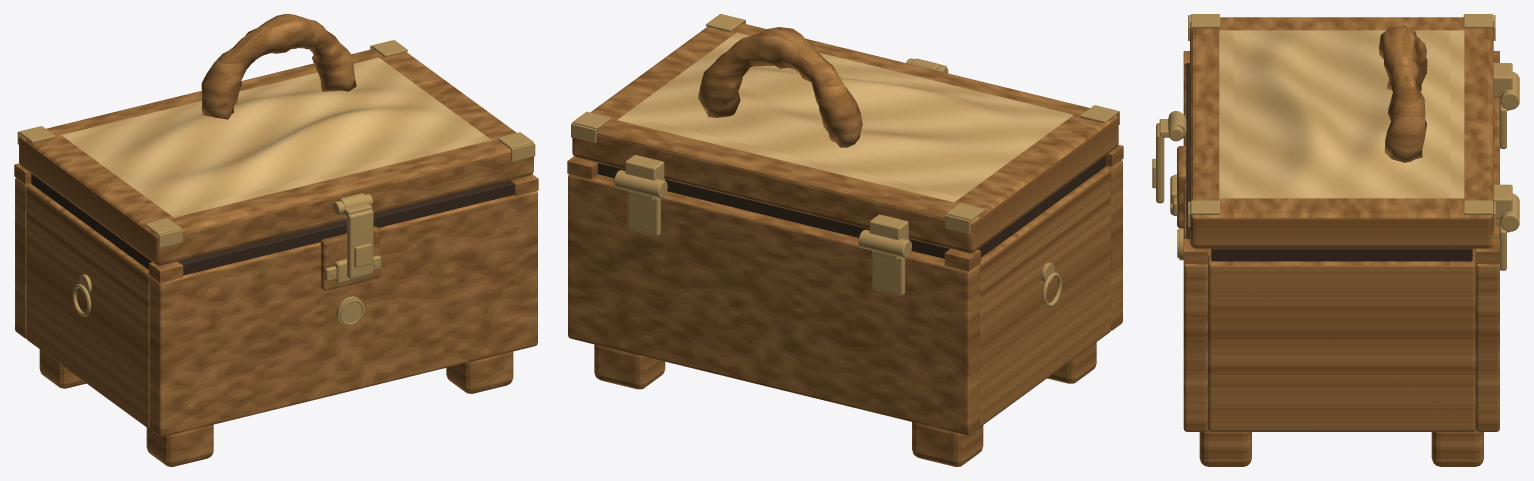
The model's file is libya.glb.
3 views of the same model, side by side, from view 1: azimuth 30°, elevation 25°; view 2: azimuth 150°, elevation 25°; view 3: azimuth 270°, elevation 25° (orthographic). The views are drawn at different scales.
Parts seen in each view (by area): view 1: Ochre / wall, Terrain / two dune crests, Lid / polished slab, Ochre / side, Terrain / Acacus open arch, Seam / long, Ochre / foot, Ochre / foot.002, Ochre / wall.001, Latch / lifting hasp, Ochre / clasp seat, Seam / side (+3 smaller); view 2: Ochre / wall.001, Terrain / two dune crests, Lid / polished slab, Ochre / side, Terrain / Acacus open arch, Seam / long.001, Ochre / foot.001, Ochre / foot.003, Ochre / wall, Seam / side, Hinge / fixed mount, Hinge / fixed mount.001 (+6 smaller); view 3: Ochre / side.001, Terrain / two dune crests, Lid / polished slab, Terrain / Acacus open arch, Ochre / wall.001, Ochre / wall, Seam / side.001, Ochre / foot.002, Ochre / foot.003, Ochre / clasp seat, Seam / long, Latch / lifting hasp (+10 smaller).
Part boxes in pixels (x1=…): Ochre / wall: x1=150, y1=191, x2=537, y2=437; Terrain / two dune crests: x1=61, y1=57, x2=491, y2=217; Lid / polished slab: x1=19, y1=49, x2=533, y2=265; Ochre / side: x1=26, y1=184, x2=150, y2=428; Terrain / Acacus open arch: x1=201, y1=14, x2=356, y2=119; Seam / long: x1=178, y1=180, x2=514, y2=275; Ochre / foot: x1=146, y1=424, x2=213, y2=466; Ochre / foot.002: x1=446, y1=351, x2=513, y2=393; Ochre / wall.001: x1=15, y1=178, x2=31, y2=338; Latch / lifting hasp: x1=347, y1=209, x2=373, y2=278; Ochre / clasp seat: x1=320, y1=226, x2=379, y2=290; Seam / side: x1=31, y1=174, x2=151, y2=269; Ochre / wall.001: x1=568, y1=174, x2=979, y2=435; Terrain / two dune crests: x1=617, y1=32, x2=1073, y2=202; Lid / polished slab: x1=572, y1=23, x2=1118, y2=253; Ochre / side: x1=979, y1=166, x2=1110, y2=426; Terrain / Acacus open arch: x1=698, y1=27, x2=862, y2=147; Seam / long.001: x1=598, y1=163, x2=949, y2=258; Ochre / foot.001: x1=912, y1=422, x2=983, y2=466; Ochre / foot.003: x1=594, y1=344, x2=665, y2=389; Ochre / wall: x1=1105, y1=160, x2=1122, y2=330; Seam / side: x1=977, y1=155, x2=1105, y2=257; Hinge / fixed mount: x1=872, y1=250, x2=905, y2=295; Hinge / fixed mount.001: x1=627, y1=191, x2=660, y2=235; Ochre / side.001: x1=1208, y1=256, x2=1475, y2=431; Terrain / two dune crests: x1=1219, y1=30, x2=1464, y2=198; Lid / polished slab: x1=1190, y1=17, x2=1493, y2=248; Terrain / Acacus open arch: x1=1379, y1=25, x2=1427, y2=162; Ochre / wall.001: x1=1475, y1=97, x2=1499, y2=431; Ochre / wall: x1=1183, y1=76, x2=1207, y2=431; Seam / side.001: x1=1211, y1=248, x2=1472, y2=261; Ochre / foot.002: x1=1199, y1=429, x2=1251, y2=466; Ochre / foot.003: x1=1431, y1=429, x2=1483, y2=466; Ochre / clasp seat: x1=1177, y1=146, x2=1186, y2=228; Seam / long: x1=1186, y1=63, x2=1189, y2=238; Latch / lifting hasp: x1=1156, y1=123, x2=1164, y2=203.
Bounding box in the file's own units: 3.79 × 3.15 × 2.88.
Materials: 4 (2 with a texture image).
